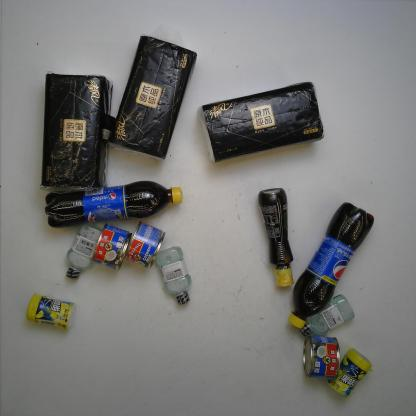Canned Food: (123, 221, 166, 269), (91, 223, 133, 271), (302, 334, 342, 378)
Drink: (286, 202, 376, 330), (44, 179, 184, 230)
Gum: (325, 348, 373, 398), (26, 292, 77, 330)
Personal Hygiene: (298, 293, 356, 338), (155, 245, 192, 306), (65, 222, 103, 281)
Seasoner: (257, 186, 295, 288)
Tissue: (106, 32, 198, 162), (196, 80, 325, 164), (39, 69, 113, 195)
